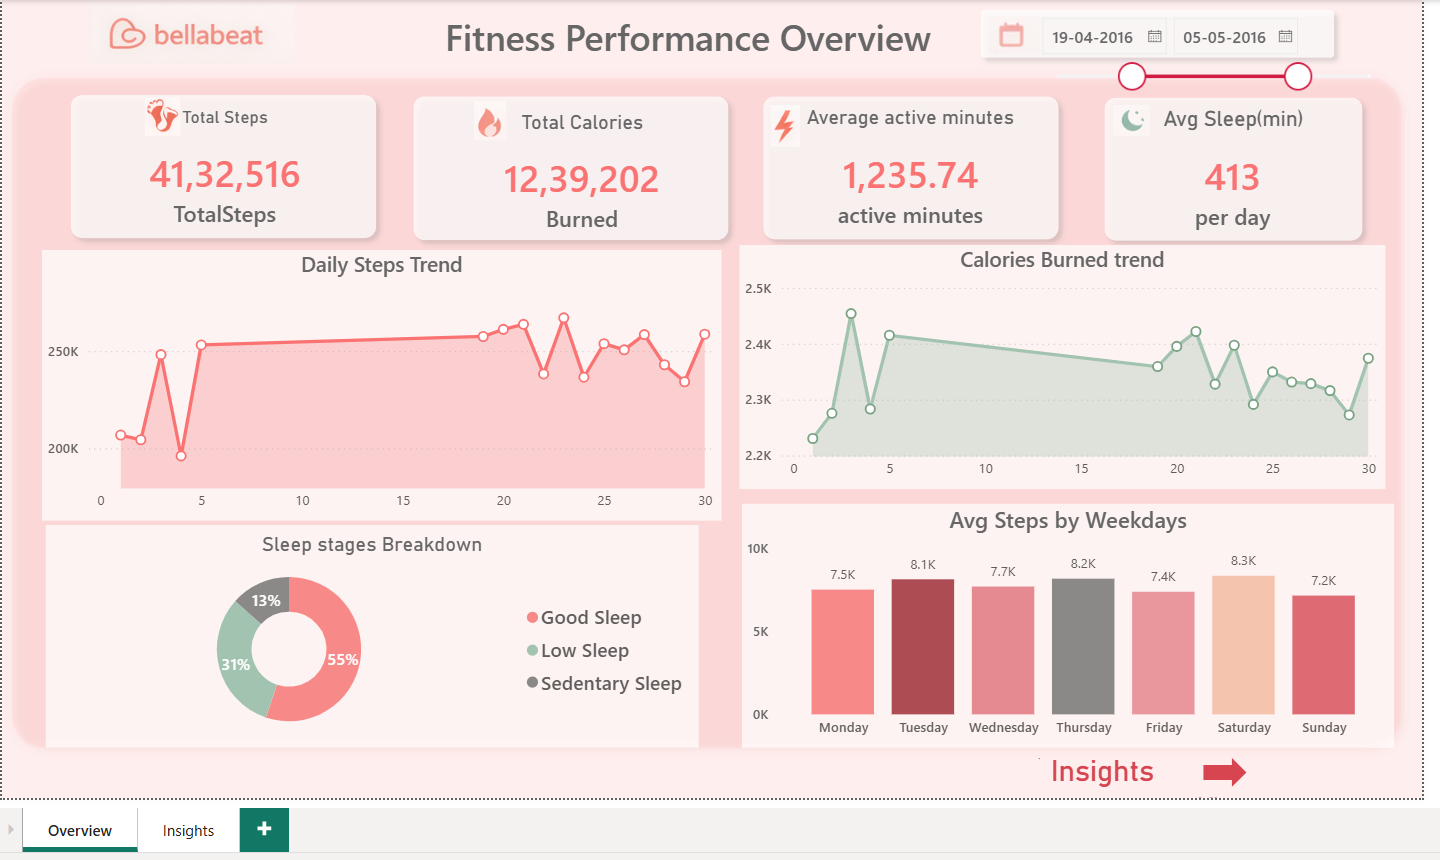

Layout of this report page (visuals, bound fields, positions):
{"tool":"powerbi","page":{"name":"Overview","canvas":[1280,720],"ordinal":0},"visuals":[{"type":"shape","box":[0,61.1,1270.5,622.4],"z":0},{"type":"shape","box":[362.2,77.8,302.2,147.8],"z":0,"group":"g1"},{"type":"shape","box":[677.8,77.8,284.4,147.1],"z":0,"group":"g2"},{"type":"shape","box":[985.6,78.9,250.7,147.1],"z":0,"group":"g3"},{"type":"actionButton","title":"View Detailed  Insights","box":[1070.8,714.4,63.9,5.9],"z":0,"group":"g5"},{"type":"shape","box":[873.3,0,336.7,61.1],"z":1000},{"type":"cardVisual","title":"Average active minutes","fields":{"Data":["bellabeat master_daily_final.avg active minutes"]},"box":[687.8,95.1,263.1,129.8],"z":1000,"group":"g2"},{"type":"cardVisual","title":"Avg Sleep(min)","fields":{"Data":["Avg(bellabeat master_daily_final.TotalMinutesAsleep)"]},"box":[994.4,96.2,231.9,129.8],"z":1000,"group":"g3"},{"type":"cardVisual","title":"Total Calories","fields":{"Data":["bellabeat master_daily_final.Total Calories Burned"]},"box":[399.5,99.1,248.8,127.6],"z":1000,"group":"g1"},{"type":"shape","box":[934.2,683.6,1.8,2.1],"z":1000,"group":"g5"},{"type":"image","box":[79.8,0,183.7,60.6],"z":2000},{"type":"textbox","box":[288.5,6.7,659.6,53.8],"z":3000},{"type":"shape","box":[53.3,76.7,293.5,147.1],"z":3000,"group":"g4"},{"type":"group","id":"g1","title":"Group 1","box":[362.2,77.8,302.2,148.9],"z":4000},{"type":"cardVisual","title":"Total Steps","fields":{"Data":["Sum(bellabeat master_daily_final.TotalSteps)"]},"box":[65.5,96.7,271.5,126.9],"z":4000,"group":"g4"},{"type":"group","id":"g2","title":"Group 1","box":[677.8,77.8,284.4,147.8],"z":5000},{"type":"group","id":"g3","title":"Group 1","box":[985.6,78.9,251.1,147.8],"z":6000},{"type":"group","id":"g4","title":"Group 2","box":[53.3,76.7,293.3,147.8],"z":7000},{"type":"lineChart","title":"Daily Steps Trend","fields":{"Y":["bellabeat master_daily_final.Total Steps"],"Category":["bellabeat master_daily_final.activity_date.Variation.Date Hierarchy.Day"]},"box":[36,225.6,612.8,244.2],"z":8000},{"type":"image","box":[400,91.1,80,35.6],"z":9000},{"type":"image","box":[995.6,94.4,46.7,27.8],"z":10000},{"type":"lineChart","title":"Calories Burned trend","fields":{"Y":["bellabeat master_daily_final.Avg Daily Calories"],"Category":["bellabeat master_daily_final.activity_date.Variation.Date Hierarchy.Day"]},"box":[664.4,221.1,582.2,220],"z":11000},{"type":"donutChart","title":"Sleep stages Breakdown","fields":{"Category":["bellabeat master_daily_final.Sleep Category"],"Y":["bellabeat master_daily_final.Avg Sleep Hours"]},"box":[40,473.3,588.9,201.1],"z":12000},{"type":"slicer","fields":{"Values":["bellabeat master_daily_final.activity_date"]},"box":[925.7,6.1,330.2,88],"z":13000},{"type":"image","box":[888.9,14.4,45.6,33.3],"z":14000},{"type":"image","box":[79.5,88,129.6,34.2],"z":15000},{"type":"image","box":[687.8,94.4,37.8,37.8],"z":16000},{"type":"columnChart","title":"Avg Steps by Weekdays","fields":{"Category":["bellabeat master_daily_final.Day Name"],"Y":["bellabeat master_daily_final.Avg Daily steps"]},"box":[667.7,453.7,588.2,220.1],"z":17000},{"type":"group","id":"g5","title":"Group 3","box":[934.2,683.6,200.5,36.7],"z":19000,"group":"g6"},{"type":"group","id":"g6","title":"Group 4","box":[934.2,683.6,200.5,36.7],"z":19001},{"type":"actionButton","title":"Insights","box":[946,680,184.6,34.2],"z":19002,"group":"g7"},{"type":"shape","box":[1083.4,683.6,39.1,26.9],"z":19003,"group":"g7"},{"type":"group","id":"g7","title":"Group 5","box":[946,680,184.6,34.2],"z":19004}]}

Visuals, with their boxes on the page's 1280x720 design canvas (x1, y1, x2, y2). These are canvas units, not pixel positions in the 1440x860 screenshot, which may show the page scaled, cropped or inside an application window:
shape: bbox=[0, 61, 1270, 684]
shape: bbox=[362, 78, 664, 226]
shape: bbox=[678, 78, 962, 225]
shape: bbox=[986, 79, 1236, 226]
"View Detailed  Insights" actionButton: bbox=[1071, 714, 1135, 720]
shape: bbox=[873, 0, 1210, 61]
"Average active minutes" cardVisual: bbox=[688, 95, 951, 225]
"Avg Sleep(min)" cardVisual: bbox=[994, 96, 1226, 226]
"Total Calories" cardVisual: bbox=[400, 99, 648, 227]
shape: bbox=[934, 684, 936, 686]
image: bbox=[80, 0, 264, 61]
textbox: bbox=[288, 7, 948, 60]
shape: bbox=[53, 77, 347, 224]
"Group 1" group: bbox=[362, 78, 664, 227]
"Total Steps" cardVisual: bbox=[66, 97, 337, 224]
"Group 1" group: bbox=[678, 78, 962, 226]
"Group 1" group: bbox=[986, 79, 1237, 227]
"Group 2" group: bbox=[53, 77, 347, 224]
"Daily Steps Trend" lineChart: bbox=[36, 226, 649, 470]
image: bbox=[400, 91, 480, 127]
image: bbox=[996, 94, 1042, 122]
"Calories Burned trend" lineChart: bbox=[664, 221, 1247, 441]
"Sleep stages Breakdown" donutChart: bbox=[40, 473, 629, 674]
slicer - bellabeat master_daily_final.activity_date: bbox=[926, 6, 1256, 94]
image: bbox=[889, 14, 934, 48]
image: bbox=[80, 88, 209, 122]
image: bbox=[688, 94, 726, 132]
"Avg Steps by Weekdays" columnChart: bbox=[668, 454, 1256, 674]
"Group 3" group: bbox=[934, 684, 1135, 720]
"Group 4" group: bbox=[934, 684, 1135, 720]
"Insights" actionButton: bbox=[946, 680, 1131, 714]
shape: bbox=[1083, 684, 1122, 710]
"Group 5" group: bbox=[946, 680, 1131, 714]
